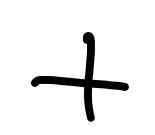plus: (30, 32, 129, 120)
